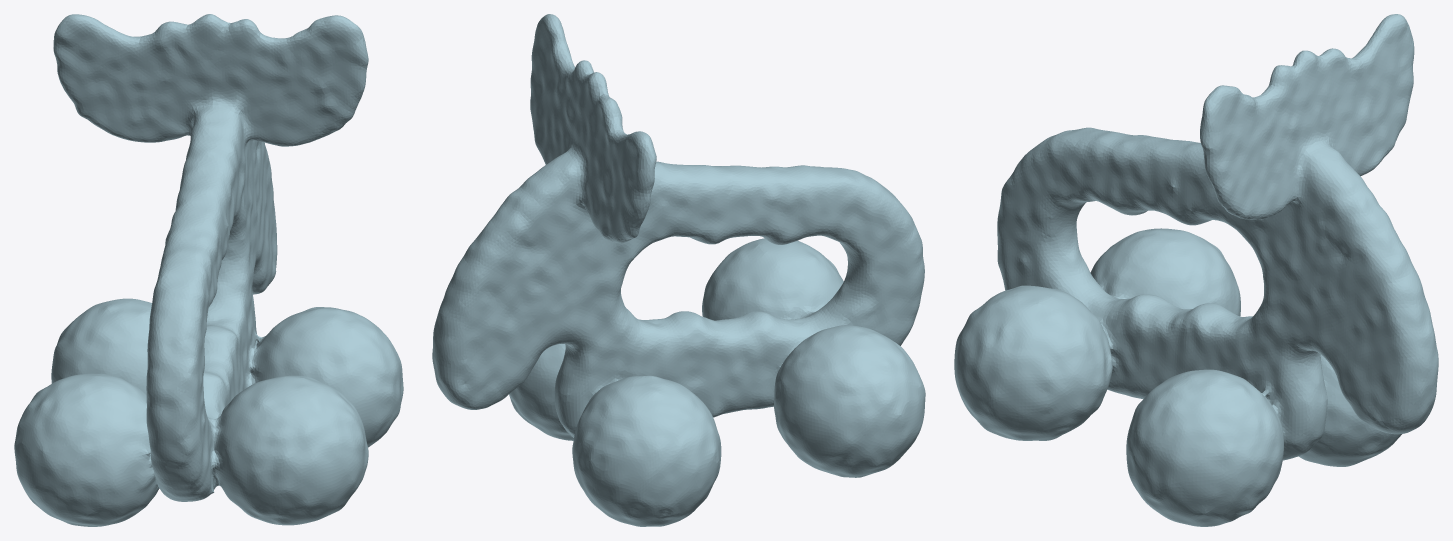
File: geoudf_elk.glb
3 views of the same model, side by side, from view 1: azimuth 30°, elevation 25°; view 2: azimuth 150°, elevation 25°; view 3: azimuth 270°, elevation 25° (orthographic). The views are drawn at different scales.
Parts seen in each view (by area): view 1: geoudf_elk.ply; view 2: geoudf_elk.ply; view 3: geoudf_elk.ply.
Boxes of the visible parts, x1,y1,x2,y2 form: geoudf_elk.ply: (14, 14, 403, 526); geoudf_elk.ply: (432, 14, 925, 526); geoudf_elk.ply: (954, 14, 1438, 526).
Size of the model in its own units: 0.9072 by 0.9655 by 0.9455.
